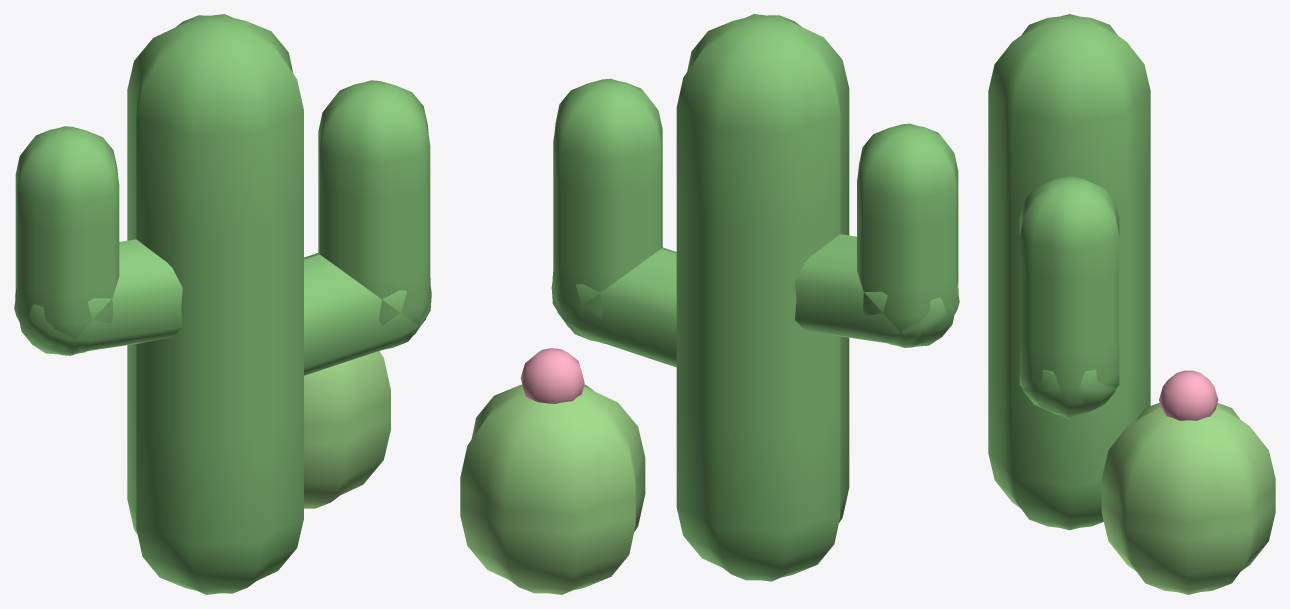
Rendered from cactus-cluster.glb.
3 views of the same model, side by side, from view 1: azimuth 30°, elevation 25°; view 2: azimuth 150°, elevation 25°; view 3: azimuth 270°, elevation 25° (orthographic). The views are drawn at different scales.
Parts seen in each view (by area): view 1: MainTrunk, ArmR2, ArmL2, Barrel, ArmL1, ArmR1; view 2: MainTrunk, Barrel, ArmR2, ArmL2, ArmR1, ArmL1, CactusFlower; view 3: MainTrunk, Barrel, ArmR2, CactusFlower, ArmR1.
Boxes of the visible parts, x1=… form: MainTrunk: x1=127, y1=14, x2=303, y2=594; ArmR2: x1=318, y1=80, x2=430, y2=351; ArmL2: x1=15, y1=126, x2=119, y2=355; Barrel: x1=304, y1=351, x2=390, y2=508; ArmL1: x1=14, y1=239, x2=182, y2=354; ArmR1: x1=304, y1=253, x2=431, y2=375; MainTrunk: x1=676, y1=14, x2=849, y2=581; Barrel: x1=460, y1=384, x2=645, y2=594; ArmR2: x1=553, y1=78, x2=662, y2=343; ArmL2: x1=857, y1=123, x2=958, y2=347; ArmR1: x1=551, y1=247, x2=676, y2=367; ArmL1: x1=795, y1=234, x2=959, y2=346; CactusFlower: x1=520, y1=348, x2=584, y2=403; MainTrunk: x1=988, y1=14, x2=1150, y2=530; Barrel: x1=1101, y1=403, x2=1275, y2=594; ArmR2: x1=1019, y1=176, x2=1119, y2=414; CactusFlower: x1=1159, y1=370, x2=1218, y2=420; ArmR1: x1=1019, y1=369, x2=1119, y2=419.
Bounding box in the file's own units: 0.8147 × 1.02 × 0.5303.
